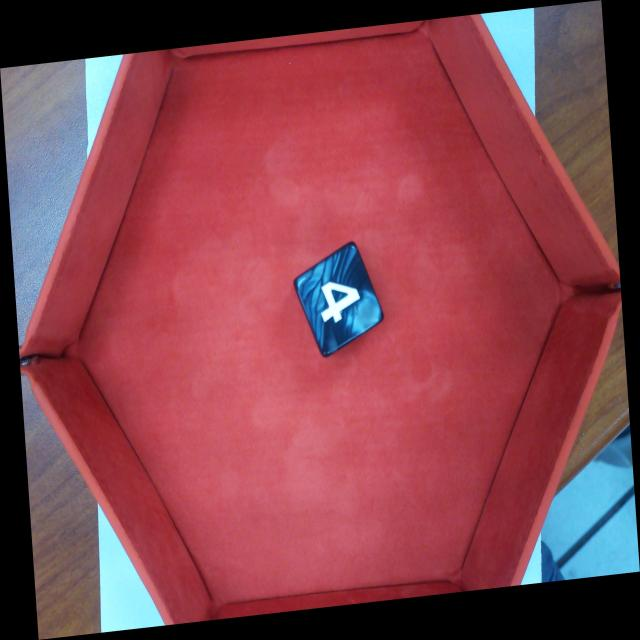dice: (297, 245, 385, 357)
